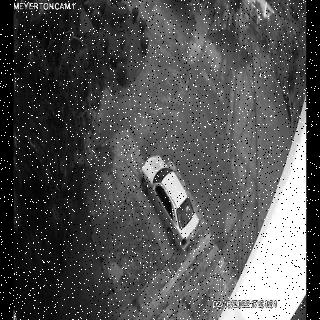car: (140, 154, 200, 251)
